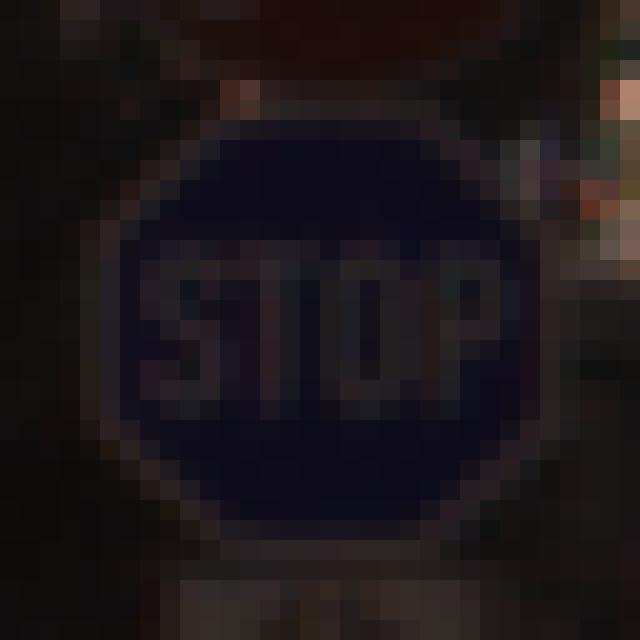STOP: (79, 89, 586, 538)
